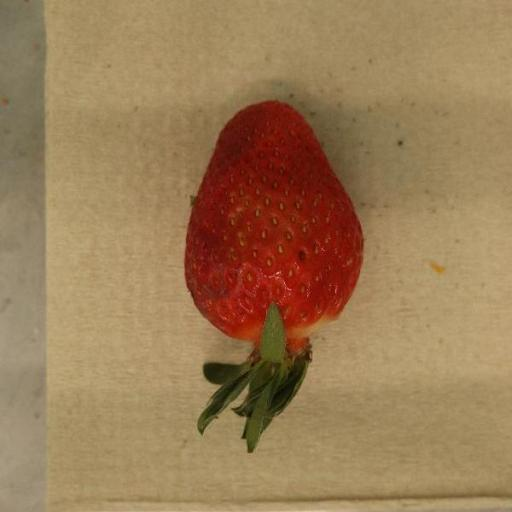Strawberry: (185, 101, 365, 455)
